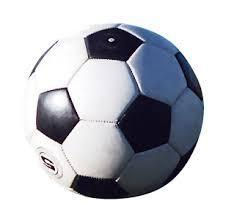Sports-Ball: (27, 23, 197, 202)
